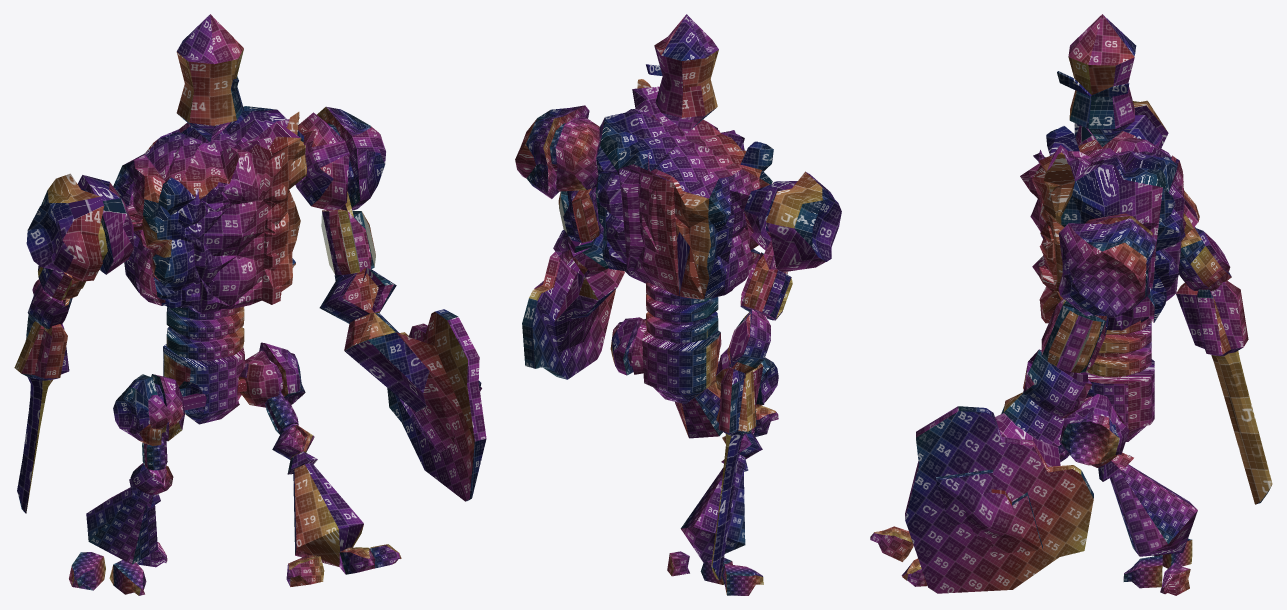
Rendered from Crystal Robot.obj.
3 views of the same model, side by side, from view 1: azimuth 30°, elevation 25°; view 2: azimuth 150°, elevation 25°; view 3: azimuth 270°, elevation 25° (orthographic). The views are drawn at different scales.
Parts seen in each view (by area): view 1: Chest, RightShoulder RightArm RightDiamondElbow Shield, LeftShoulder, RightShoulder, Chest Head, RightHipJoint RightThigh RightDiamondKnee RightLeg, LeftShoulder LeftArm LeftDiamondElbow Sword, LeftHipJoint, LeftHipJoint LeftThigh LeftDiamondKnee LeftLeg, Hips, RightShoulder RightArm RightDiamondElbow, Chest torso (+12 smaller); view 2: Chest, RightShoulder RightArm RightDiamondElbow Shield, LeftShoulder, RightShoulder, Chest Head, LeftShoulder LeftArm LeftDiamondElbow Sword, Hips, Chest torso, LeftHipJoint LeftThigh LeftDiamondKnee LeftLeg, RightShoulder RightArm RightDiamondElbow, LeftShoulder LeftArm, LeftShoulder LeftArm LeftDiamondElbow (+8 smaller); view 3: RightShoulder RightArm RightDiamondElbow Shield, Chest, RightShoulder, LeftShoulder LeftArm LeftDiamondElbow Sword, Chest Head, LeftHipJoint LeftThigh LeftDiamondKnee LeftLeg, RightShoulder RightArm RightDiamondElbow, RightShoulder RightArm, RightHipJoint, Hips, Chest torso, LeftShoulder LeftArm LeftDiamondElbow (+4 smaller).
Part boxes in pixels (left/top/right/bottom): Chest: left=113, top=106, right=307, bottom=314; RightShoulder RightArm RightDiamondElbow Shield: left=345, top=309, right=486, bottom=501; LeftShoulder: left=26, top=173, right=142, bottom=281; RightShoulder: left=295, top=106, right=385, bottom=210; Chest Head: left=176, top=14, right=243, bottom=142; RightHipJoint RightThigh RightDiamondKnee RightLeg: left=287, top=451, right=363, bottom=566; LeftShoulder LeftArm LeftDiamondElbow Sword: left=14, top=315, right=69, bottom=513; LeftHipJoint: left=113, top=374, right=206, bottom=445; LeftHipJoint LeftThigh LeftDiamondKnee LeftLeg: left=86, top=478, right=160, bottom=564; Hips: left=163, top=344, right=245, bottom=424; RightShoulder RightArm RightDiamondElbow: left=319, top=267, right=398, bottom=351; Chest torso: left=166, top=306, right=244, bottom=360; Chest: left=595, top=79, right=773, bottom=299; RightShoulder RightArm RightDiamondElbow Shield: left=522, top=251, right=617, bottom=379; LeftShoulder: left=744, top=171, right=841, bottom=272; RightShoulder: left=515, top=105, right=599, bottom=198; Chest Head: left=646, top=14, right=718, bottom=133; LeftShoulder LeftArm LeftDiamondElbow Sword: left=711, top=363, right=763, bottom=579; Hips: left=642, top=330, right=721, bottom=404; Chest torso: left=646, top=283, right=718, bottom=343; LeftHipJoint LeftThigh LeftDiamondKnee LeftLeg: left=680, top=455, right=748, bottom=562; RightShoulder RightArm RightDiamondElbow: left=553, top=230, right=624, bottom=300; LeftShoulder LeftArm: left=740, top=240, right=792, bottom=320; LeftShoulder LeftArm LeftDiamondElbow: left=727, top=309, right=770, bottom=373; RightShoulder RightArm RightDiamondElbow Shield: left=905, top=406, right=1093, bottom=593; Chest: left=1020, top=125, right=1186, bottom=330; RightShoulder: left=1058, top=213, right=1156, bottom=316; LeftShoulder LeftArm LeftDiamondElbow Sword: left=1176, top=281, right=1272, bottom=504; Chest Head: left=1057, top=14, right=1136, bottom=146; LeftHipJoint LeftThigh LeftDiamondKnee LeftLeg: left=1098, top=452, right=1197, bottom=556; RightShoulder RightArm RightDiamondElbow: left=1003, top=349, right=1092, bottom=446; RightShoulder RightArm: left=1041, top=298, right=1108, bottom=373; RightHipJoint: left=1060, top=394, right=1129, bottom=465; Hips: left=1085, top=359, right=1154, bottom=441; Chest torso: left=1086, top=318, right=1151, bottom=377; LeftShoulder LeftArm LeftDiamondElbow: left=1178, top=227, right=1231, bottom=290.
Bounding box in the file's own units: 175 × 254 × 154.
Materials: 1 (1 with a texture image).
